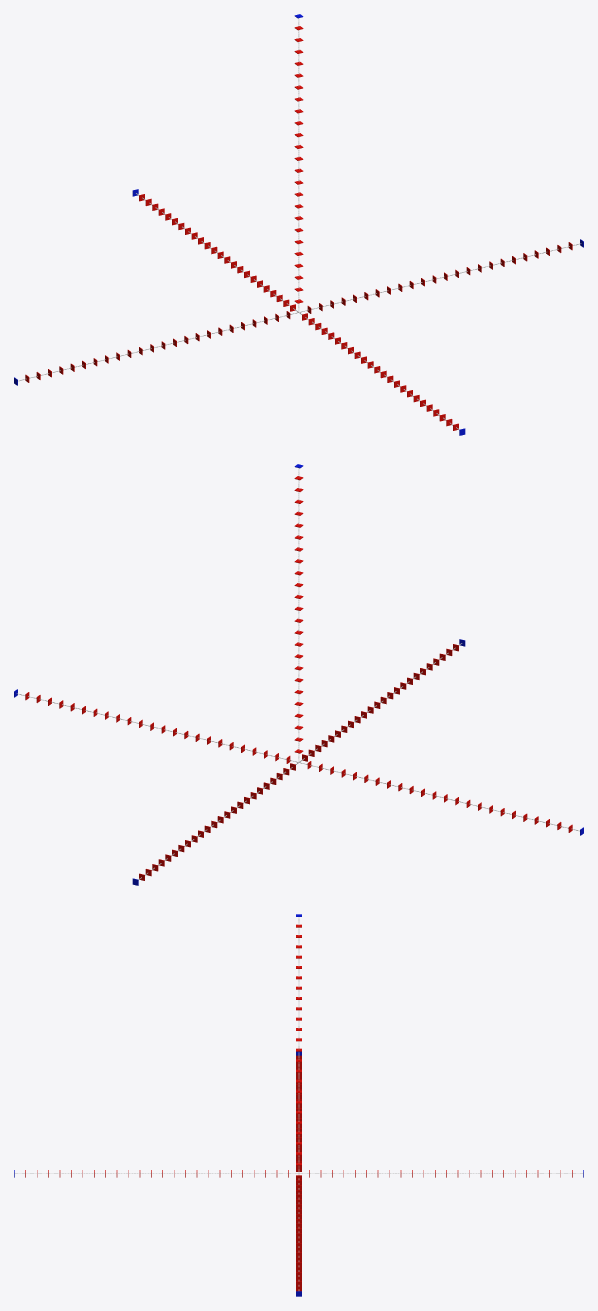
Rendered from Metrics.glb.
3 views of the same model, one above another, from view 1: azimuth 30°, elevation 25°; view 2: azimuth 150°, elevation 25°; view 3: azimuth 270°, elevation 25° (orthographic). The views are drawn at different scales.
Parts seen in each view (by area): view 1: Cube; view 2: Cube; view 3: Cube.
Part boxes in pixels (left/top/right/bottom): Cube: left=14, top=14, right=583, bottom=435; Cube: left=14, top=464, right=583, bottom=885; Cube: left=14, top=914, right=583, bottom=1296.
Size of the model in its own units: 998 by 504 by 998.
